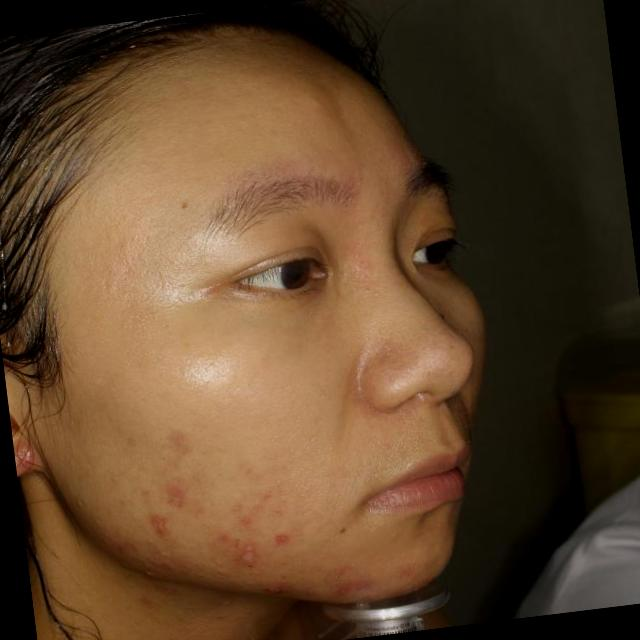acne: (158, 481, 194, 512), (144, 506, 173, 538), (234, 541, 262, 574), (266, 524, 294, 550), (230, 504, 258, 528), (353, 568, 381, 592), (262, 577, 292, 599), (327, 554, 353, 578), (330, 580, 353, 602), (212, 528, 232, 546)
